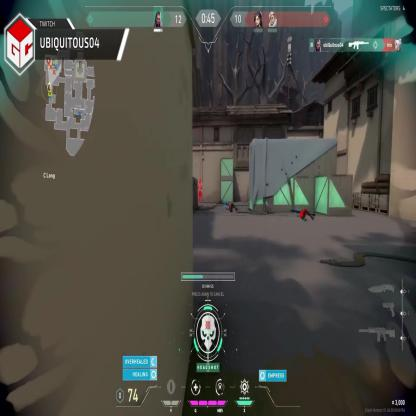enemy: (198, 178, 203, 205)
enemy_head: (199, 179, 202, 185)
